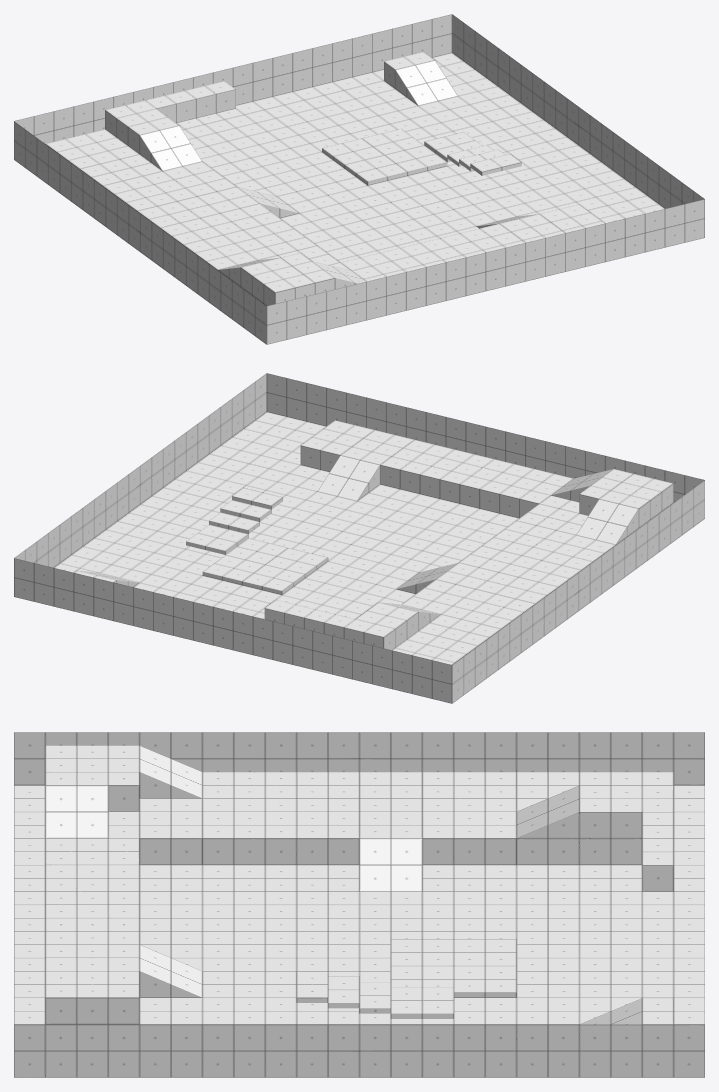
Rendered from PlayGround.FBX.
The picture shows the model from 3 angles, top to bottom: view 1: azimuth 30°, elevation 25°; view 2: azimuth 150°, elevation 25°; view 3: azimuth 270°, elevation 25°; orthographic projection. The views are drawn at different scales.
Visible parts, largest first — view 1: PlayGround; view 2: PlayGround; view 3: PlayGround.
Part boxes in pixels (x1,y1,x2,y2): PlayGround: (14, 14, 704, 344); PlayGround: (14, 373, 704, 703); PlayGround: (14, 732, 704, 1077).
Bounding box in the file's own units: 118 × 10.04 × 118.
